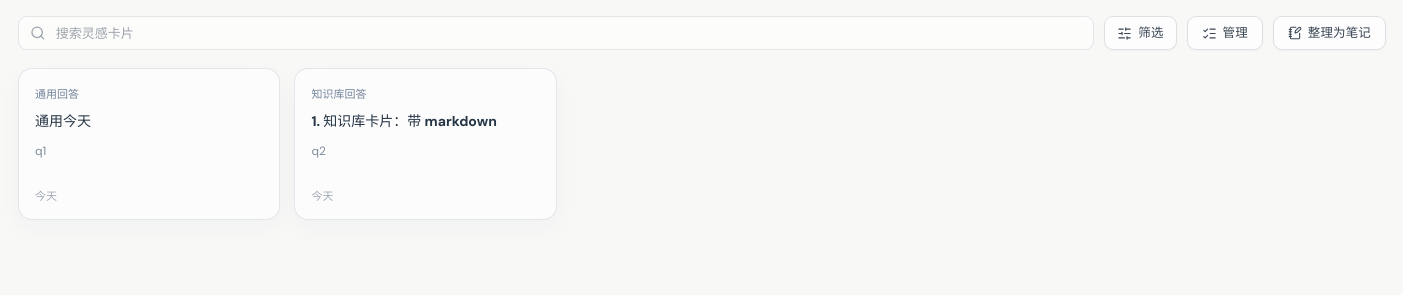
Scenario: InspirationCards manage mode › enters manage mode with batch delete and import disabled until selection
Click the button "管理" at {"x": 1225, "y": 33}, box [1187,16,1263,50]
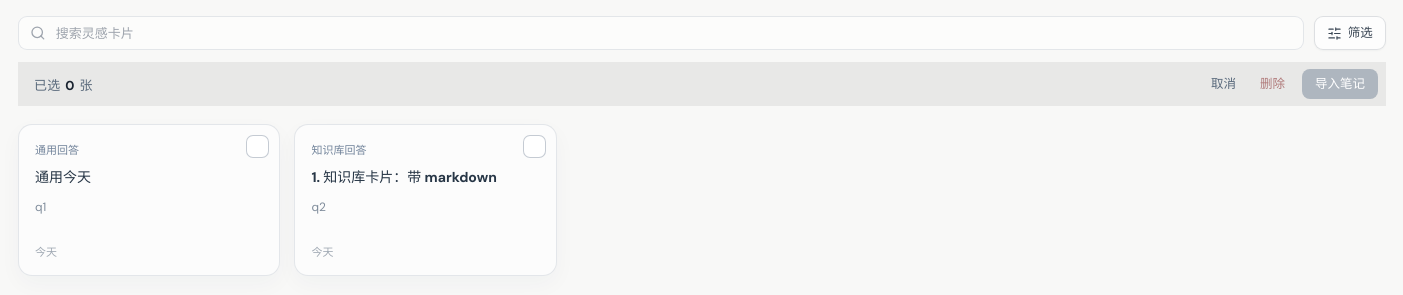
Check: the button "删除" is disabled, box [1249,69,1296,99]
Check: the button "导入笔记" is disabled, box [1302,69,1378,99]
Click the button named "选择卡片：general-today" at {"x": 258, "y": 146}, box [246,135,269,158]
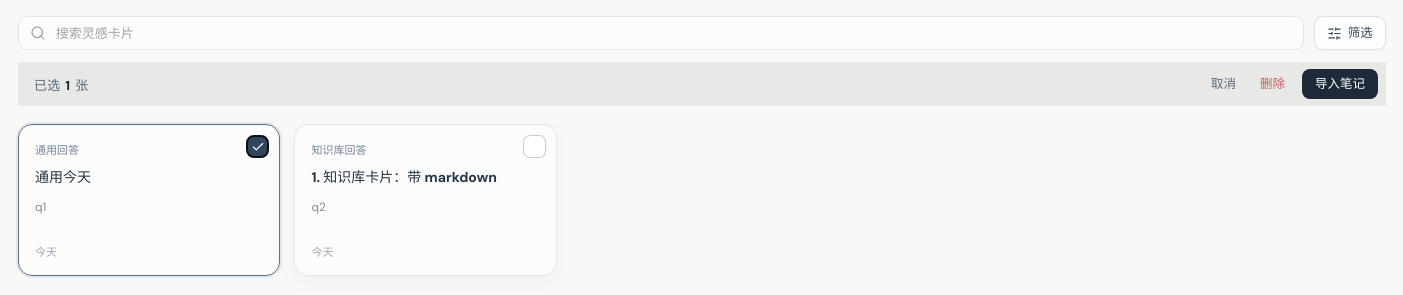
Check: the button "删除" is enabled, box [1249,69,1296,99]
Check: the button "导入笔记" is enabled, box [1302,69,1378,99]
